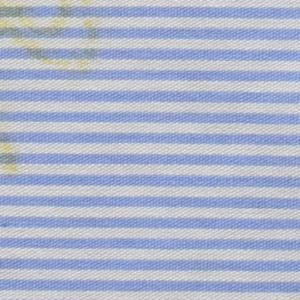Stain: (1, 1, 114, 79), (1, 138, 25, 182)
